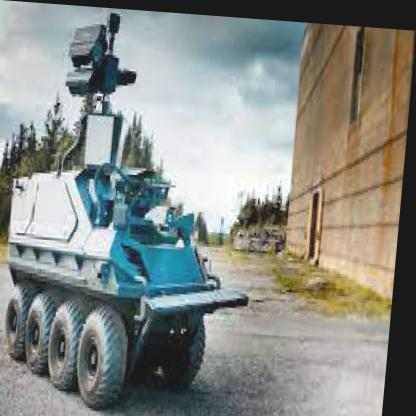UGV: (3, 158, 263, 416)
